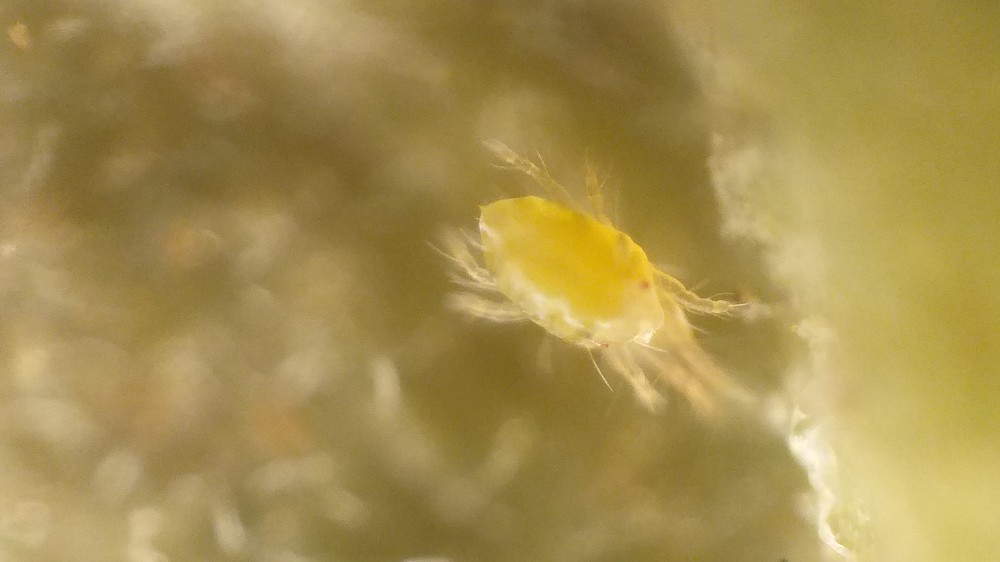Aracnido Rojo: (411, 131, 803, 445)
